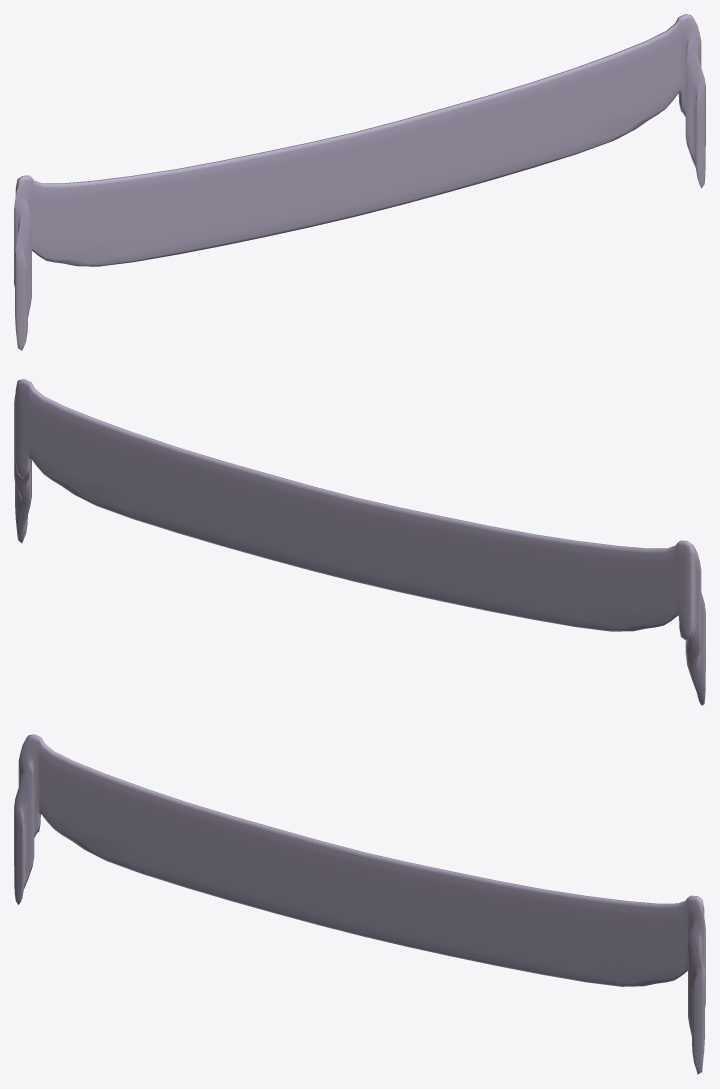
The picture shows the model from 3 angles, top to bottom: view 1: azimuth 30°, elevation 25°; view 2: azimuth 150°, elevation 25°; view 3: azimuth 330°, elevation 25°; orthographic projection.
Parts seen in each view (by area): view 1: longbanner1; view 2: longbanner1; view 3: longbanner1.
Boxes of the visible parts, x1,y1,x2,y2 form: longbanner1: (14, 14, 705, 350); longbanner1: (14, 379, 705, 705); longbanner1: (14, 734, 705, 1074).
Bounding box in the file's own units: 33.74 × 7.98 × 0.7459.
